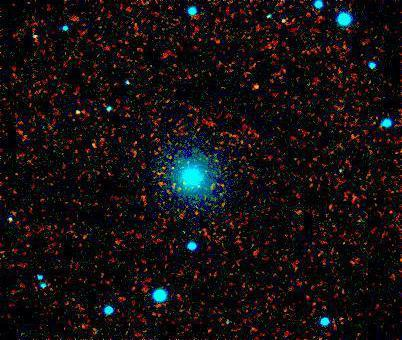star: (241, 69, 271, 99)
